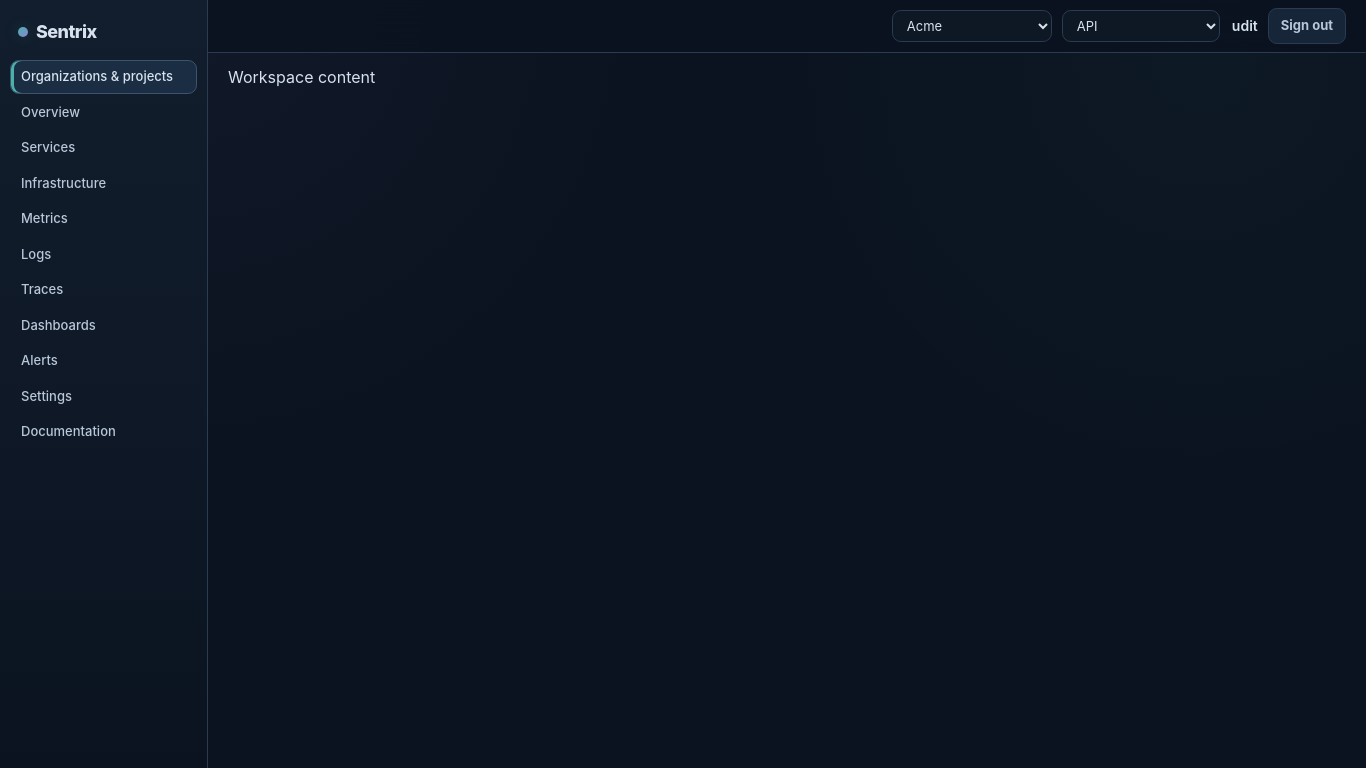
it: AppShell › shows project links only after loading and selects the first authorized pair
The width and height of the screenshot is (1366, 768).
Check: the link "Sentrix" is shown, box [36,21,97,42]
Check: the text "udit" is shown, box [1232,16,1258,36]
Select "Beta" in the dropdown named "Organization" at (972, 26), box [892,10,1052,42]
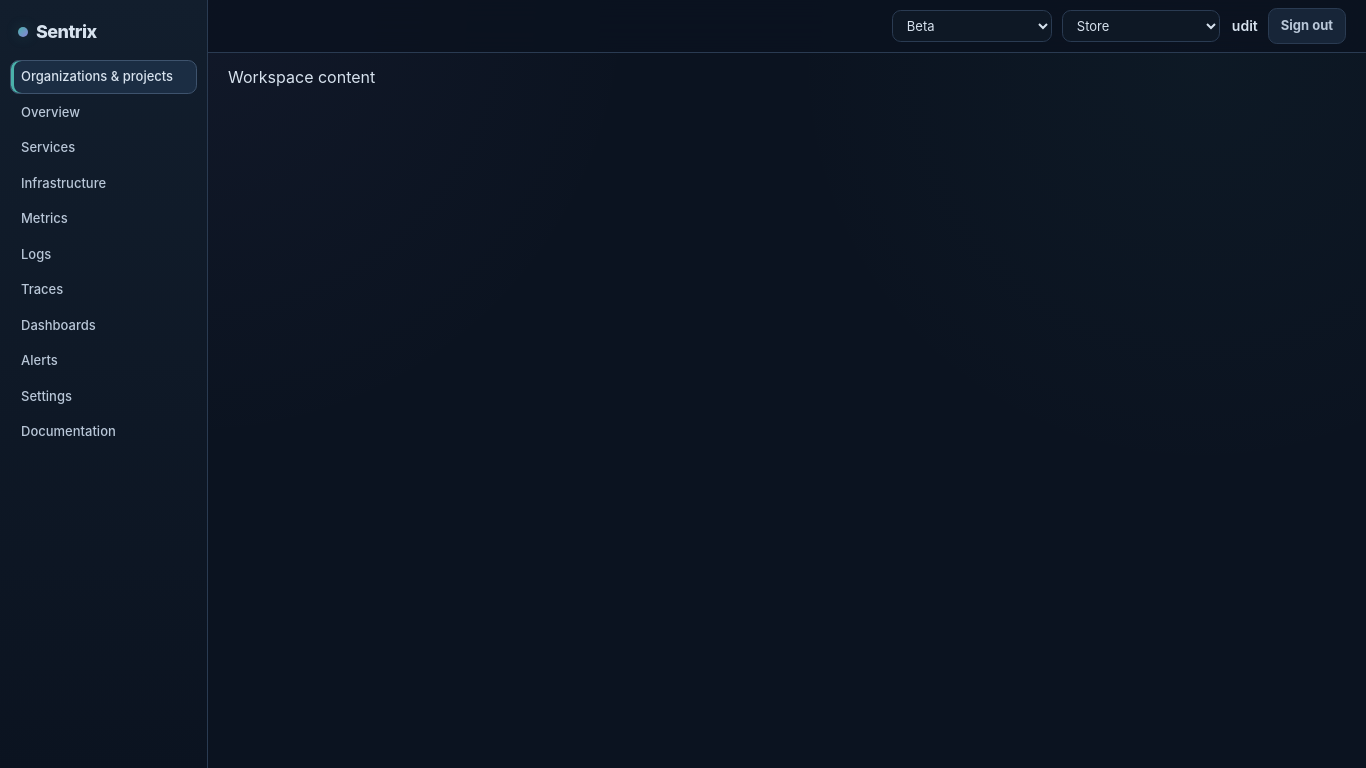
Check: the option "API" is not shown
Check: the dropdown named "Project" shows "Store", box [1062,10,1220,42]
